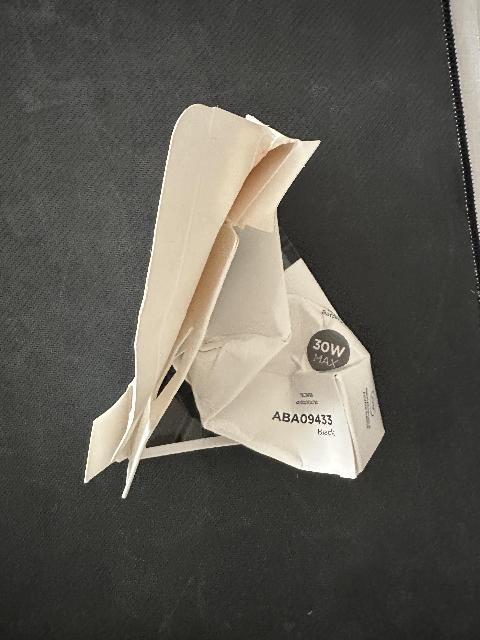Kagit: (81, 95, 384, 487)
